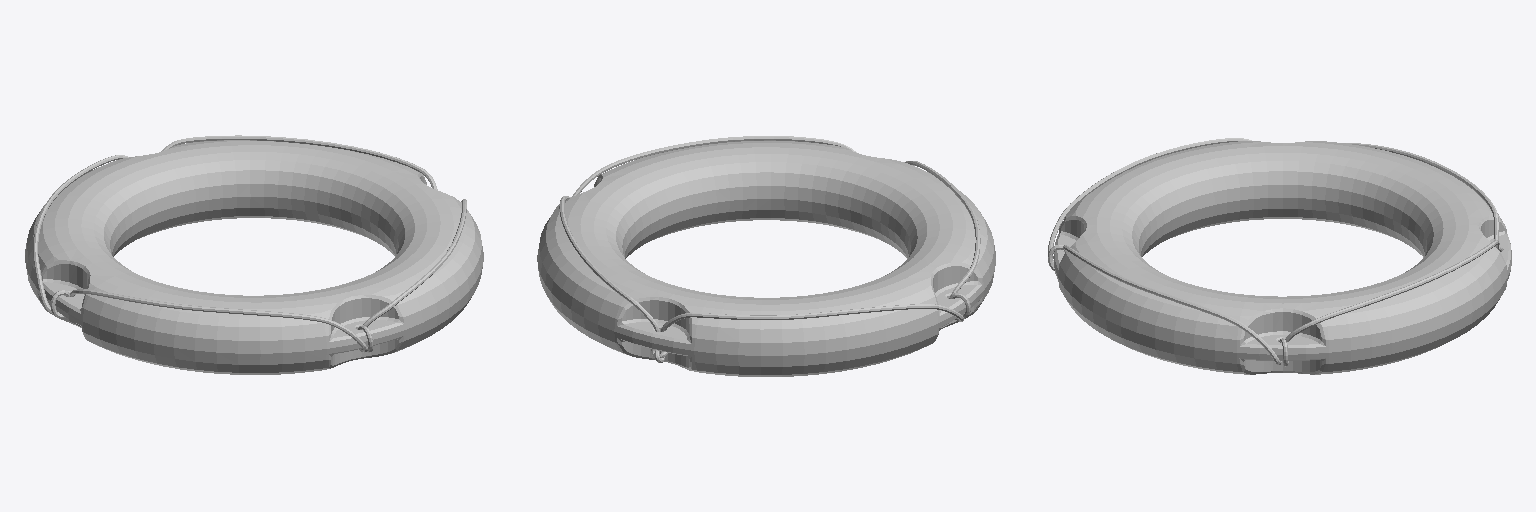
The model's file is ring.obj.
3 views of the same model, side by side, from view 1: azimuth 30°, elevation 25°; view 2: azimuth 150°, elevation 25°; view 3: azimuth 270°, elevation 25° (orthographic).
Parts seen in each view (by area): view 1: object_0; view 2: object_0; view 3: object_0.
Boxes of the visible parts, x1=… form: object_0: x1=25, y1=135, x2=483, y2=374; object_0: x1=537, y1=136, x2=995, y2=376; object_0: x1=1048, y1=138, x2=1511, y2=374.
Bounding box in the file's own units: 75.77 × 12.4 × 74.82.